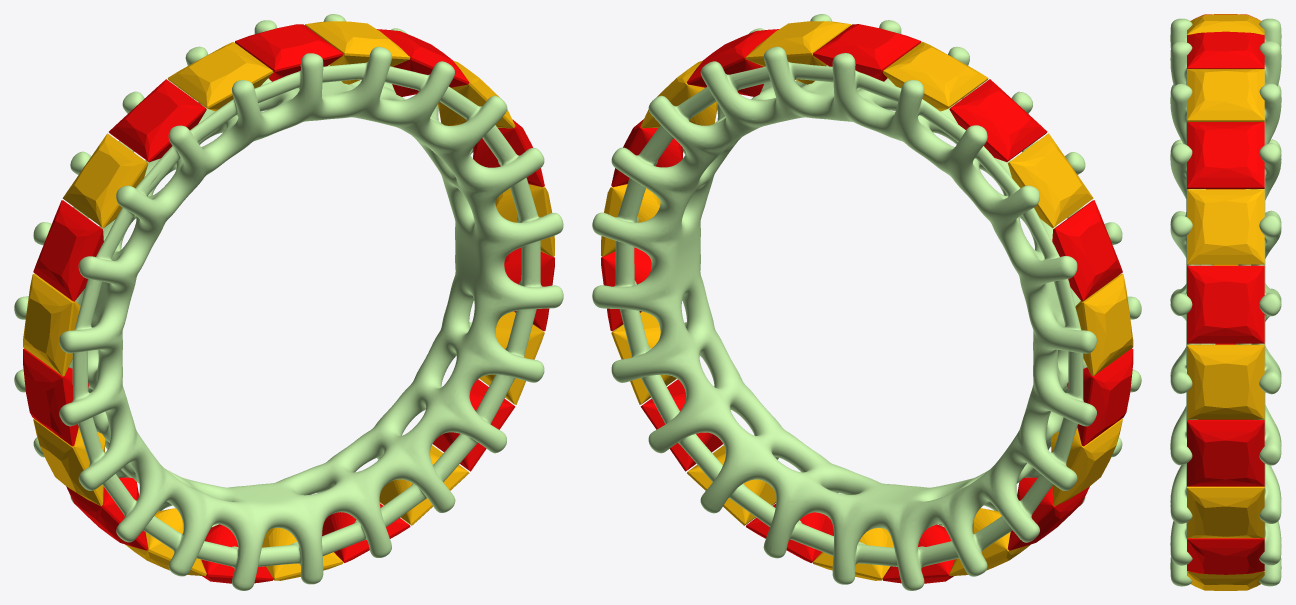
File: TCC-RN-CR-32192-Princess-Eternity-20.glb
The picture shows the model from 3 angles, left to right: view 1: azimuth 30°, elevation 25°; view 2: azimuth 150°, elevation 25°; view 3: azimuth 270°, elevation 25°; orthographic projection.
Visible parts, largest first — view 1: Metal03, Diamond Band02.009, Diamond Band01.009, Diamond Band01.008, Diamond Band02.010, Diamond Band02.008, Diamond Band01.010, Diamond Band01.007, Diamond Band02, Diamond Band02.007, Diamond Band01, Diamond Band01.006 (+11 smaller); view 2: Metal03, Diamond Band02.009, Diamond Band01.009, Diamond Band01.008, Diamond Band02.010, Diamond Band02.008, Diamond Band01.010, Diamond Band01.007, Diamond Band02, Diamond Band02.007, Diamond Band01, Diamond Band01.006 (+11 smaller); view 3: Metal03, Diamond Band01.001, Diamond Band02.002, Diamond Band02.001, Diamond Band01.002, Diamond Band01, Diamond Band02.003, Diamond Band02, Diamond Band01.010, Diamond Band01.003, Diamond Band02.010, Diamond Band02.004.
Boxes of the visible parts, <box> form: Metal03: <box>14,14,563,590</box>; Diamond Band02.009: <box>62,133,148,228</box>; Diamond Band01.009: <box>109,79,206,162</box>; Diamond Band01.008: <box>33,200,103,301</box>; Diamond Band02.010: <box>167,42,273,111</box>; Diamond Band02.008: <box>23,273,80,376</box>; Diamond Band01.010: <box>235,24,342,81</box>; Diamond Band01.007: <box>23,348,88,446</box>; Diamond Band02: <box>305,21,410,84</box>; Diamond Band02.007: <box>33,419,105,505</box>; Diamond Band01: <box>377,29,469,96</box>; Diamond Band01.006: <box>66,477,148,550</box>; Metal03: <box>592,14,1141,590</box>; Diamond Band02.009: <box>1007,133,1093,228</box>; Diamond Band01.009: <box>949,79,1047,162</box>; Diamond Band01.008: <box>1052,200,1122,301</box>; Diamond Band02.010: <box>882,42,988,111</box>; Diamond Band02.008: <box>1075,273,1133,376</box>; Diamond Band01.010: <box>813,24,921,81</box>; Diamond Band01.007: <box>1067,348,1133,446</box>; Diamond Band02: <box>746,21,850,84</box>; Diamond Band02.007: <box>1051,418,1122,505</box>; Diamond Band01: <box>686,29,778,96</box>; Diamond Band01.006: <box>1007,477,1089,550</box>; Metal03: <box>1170,18,1281,586</box>; Diamond Band01.001: <box>1187,265,1264,343</box>; Diamond Band02.002: <box>1187,344,1264,419</box>; Diamond Band02.001: <box>1187,189,1264,264</box>; Diamond Band01.002: <box>1187,419,1264,486</box>; Diamond Band01: <box>1187,122,1264,189</box>; Diamond Band02.003: <box>1187,486,1264,538</box>; Diamond Band02: <box>1187,69,1264,121</box>; Diamond Band01.010: <box>1187,31,1264,68</box>; Diamond Band01.003: <box>1187,538,1264,574</box>; Diamond Band02.010: <box>1187,14,1264,34</box>; Diamond Band02.004: <box>1187,571,1264,590</box>.
Bounding box in the file's own units: 24.48 × 24.45 × 4.72.
